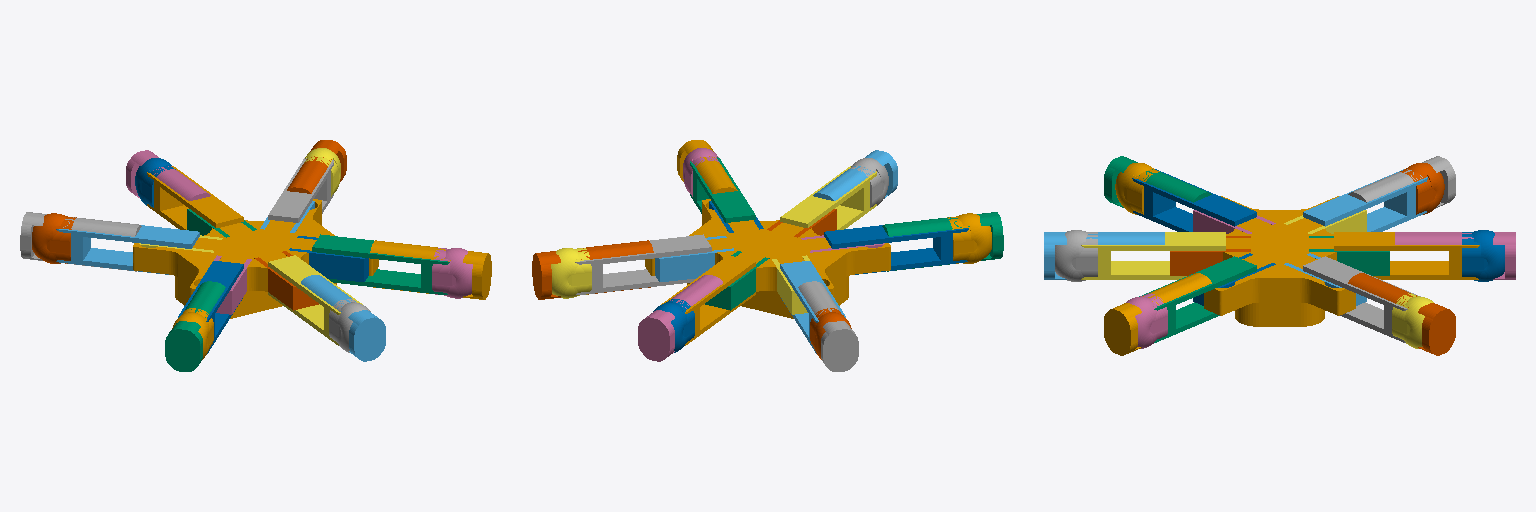
robot.urdf — guaraci:
<?xml version="1.0" encoding="utf-8"?>

<robot name="guaraci">

  <link name="base">
    <visual>
      <!-- <origin rpy="0 0 1.5707" xyz="0 0 0" /> -->
      <origin rpy="1.5707 0 1.5707" xyz="0 0 0" />
      <geometry>
        <mesh filename="../meshes/body100.dae" scale="0.002 0.002 0.002"/>
      </geometry>
    </visual>
    <collision>
      <!-- <origin rpy="0 0 1.5707" xyz="0 0 0" /> -->
      <origin rpy="1.5707 0 1.5707" xyz="0 0 0" />
      <geometry>
        <mesh filename="../meshes/body100.dae" scale="0.002 0.002 0.002"/>
      </geometry>
    </collision>
    <inertial>
      <mass value="9.42278" />
      <origin rpy="0 0 0" xyz="3.073e-05 0.0 2.577e-05" />
      <inertia ixx="0.05235" ixy="0" ixz="0" iyy="0.08538" iyz="0" izx="0" izz="0.1338"/>
    </inertial>
  </link>

  <link name="coxa_r1">
    <inertial>
      <mass value="0.59759" />
      <origin rpy="0 0 0" xyz="0 0 -3.357e-05" />
      <inertia ixx="0.00055" ixy="0" ixz="0" iyy="0.00124" iyz="0" izx="0" izz="0.00155"/>
    </inertial>
    <collision>
      <origin rpy="0 0 3.14159" xyz="0 0 0" />
      <geometry>
        <mesh filename="../meshes/coxa.dae" scale="0.002 0.002 0.002"/>
      </geometry>
    </collision>
    <visual>
      <origin rpy="0 0 3.14159" xyz="0 0 0" />
      <geometry>
        <mesh filename="../meshes/coxa.dae" scale="0.002 0.002 0.002"/>
      </geometry>
    </visual>
  </link>

  <joint name="joint_coxa_r1" type="revolute">
    <parent link="base" />
    <child link="coxa_r1" />
    <origin rpy="3.14159 0 0.7854" xyz="0.17302 0.10517 0" />
    <axis xyz="0 0 1"/>
    <limit effort="25.0" lower="-3.14159" upper="3.14159" velocity="0.5"/>
  </joint>

  <link name="coxa_r2">
    <inertial>
      <mass value="0.59759" />
      <origin rpy="0 0 0" xyz="0 0 -3.357e-05" />
      <inertia ixx="0.00055" ixy="0" ixz="0" iyy="0.00124" iyz="0" izx="0" izz="0.00155"/>
    </inertial>
    <collision>
      <origin rpy="0 0 3.14159" xyz="0 0 0" />
      <geometry>
        <mesh filename="../meshes/coxa.dae" scale="0.002 0.002 0.002"/>
      </geometry>
    </collision>
    <visual>
      <origin rpy="0 0 3.14159" xyz="0 0 0" />
      <geometry>
        <mesh filename="../meshes/coxa.dae" scale="0.002 0.002 0.002"/>
      </geometry>
    </visual>
  </link>

  <joint name="joint_coxa_r2" type="revolute">
    <parent link="base" />
    <child link="coxa_r2" />
    <origin rpy="3.14159 0 1.5707" xyz="0 0.169 0" />
    <axis xyz="0 0 1"/>
    <limit effort="25.0" lower="-3.14159" upper="3.14159" velocity="0.5"/>
  </joint>

  <link name="coxa_r3">
    <inertial>
      <mass value="0.59759" />
      <origin rpy="0 0 0" xyz="0 0 -3.357e-05" />
      <inertia ixx="0.00055" ixy="0" ixz="0" iyy="0.00124" iyz="0" izx="0" izz="0.00155"/>
    </inertial>
    <collision>
      <origin rpy="0 0 3.14159" xyz="0 0 0" />
      <geometry>
        <mesh filename="../meshes/coxa.dae" scale="0.002 0.002 0.002"/>
      </geometry>
    </collision>
    <visual>
      <origin rpy="0 0 3.14159" xyz="0 0 0" />
      <geometry>
        <mesh filename="../meshes/coxa.dae" scale="0.002 0.002 0.002"/>
      </geometry>
    </visual>
  </link>

  <joint name="joint_coxa_r3" type="revolute">
    <parent link="base" />
    <child link="coxa_r3" />
    <origin rpy="3.14159 0 2.3561" xyz="-0.17302 0.10517 0" />
    <axis xyz="0 0 1"/>
    <limit effort="25.0" lower="-3.14159" upper="3.14159" velocity="0.5"/>
  </joint>

  <link name="coxa_l1">
    <inertial>
      <mass value="0.59759" />
      <origin rpy="0 0 0" xyz="0 0 -3.357e-05" />
      <inertia ixx="0.00055" ixy="0" ixz="0" iyy="0.00124" iyz="0" izx="0" izz="0.00155"/>
    </inertial>
    <collision>
      <origin rpy="0 0 3.14159" xyz="0 0 0" />
      <geometry>
        <mesh filename="../meshes/coxa.dae" scale="0.002 0.002 0.002"/>
      </geometry>
    </collision>
    <visual>
      <origin rpy="0 0 3.14159" xyz="0 0 0" />
      <geometry>
        <mesh filename="../meshes/coxa.dae" scale="0.002 0.002 0.002"/>
      </geometry>
    </visual>
  </link>

  <joint name="joint_coxa_l1" type="revolute">
    <parent link="base" />
    <child link="coxa_l1" />
    <origin rpy="3.14159 0 5.4977" xyz="0.17302 -0.10517 0" />
    <axis xyz="0 0 1"/>
    <limit effort="25.0" lower="-3.14159" upper="3.14159" velocity="0.5"/>
  </joint>

  <link name="coxa_l2">
    <inertial>
      <mass value="0.59759" />
      <origin rpy="0 0 0" xyz="0 0 -3.357e-05" />
      <inertia ixx="0.00055" ixy="0" ixz="0" iyy="0.00124" iyz="0" izx="0" izz="0.00155"/>
    </inertial>
    <collision>
      <origin rpy="0 0 3.14159" xyz="0 0 0" />
      <geometry>
        <mesh filename="../meshes/coxa.dae" scale="0.002 0.002 0.002"/>
      </geometry>
    </collision>
    <visual>
      <origin rpy="0 0 3.14159" xyz="0 0 0" />
      <geometry>
        <mesh filename="../meshes/coxa.dae" scale="0.002 0.002 0.002"/>
      </geometry>
    </visual>
  </link>

  <joint name="joint_coxa_l2" type="revolute">
    <parent link="base" />
    <child link="coxa_l2" />
    <origin rpy="3.14159 0 4.71229" xyz="0 -0.169 0" />
    <axis xyz="0 0 1"/>
    <limit effort="25.0" lower="-3.14159" upper="3.14159" velocity="0.5"/>
  </joint>

  <link name="coxa_l3">
    <inertial>
      <mass value="0.59759" />
      <origin rpy="0 0 0" xyz="0 0 -3.357e-05" />
      <inertia ixx="0.00055" ixy="0" ixz="0" iyy="0.00124" iyz="0" izx="0" izz="0.00155"/>
    </inertial>
    <collision>
      <origin rpy="0 0 3.14159" xyz="0 0 0" />
      <geometry>
        <mesh filename="../meshes/coxa.dae" scale="0.002 0.002 0.002"/>
      </geometry>
    </collision>
    <visual>
      <origin rpy="0 0 3.14159" xyz="0 0 0" />
      <geometry>
        <mesh filename="../meshes/coxa.dae" scale="0.002 0.002 0.002"/>
      </geometry>
    </visual>
  </link>

  <joint name="joint_coxa_l3" type="revolute">
    <parent link="base" />
    <child link="coxa_l3" />
    <origin rpy="3.14159 0 3.9269" xyz="-0.17302 -0.10517 0" />
    <axis xyz="0 0 1"/>
    <limit effort="25.0" lower="-3.14159" upper="3.14159" velocity="0.5"/>
  </joint>

  <link name="femur_r1">
    <inertial>
      <mass value="0.92606" />
      <origin rpy="0 0 0" xyz="0 0 0" />
      <inertia ixx="0.00098" ixy="0" ixz="0" iyy="0.00506" iyz="0" izx="0" izz="0.00473"/>
    </inertial>
    <collision>
      <origin rpy="1.5707 0 3.14159" xyz="0 0 0" />
      <geometry>
        <mesh filename="../meshes/femur220.dae" scale="0.002 0.002 0.002"/>
      </geometry>
    </collision>
    <visual>
      <origin rpy="1.5707 0 3.14159" xyz="0 0 0" />
      <geometry>
        <mesh filename="../meshes/femur220.dae" scale="0.002 0.002 0.002"/>
      </geometry>
    </visual>
  </link>

  <joint name="joint_femur_r1" type="revolute">
    <parent link="coxa_r1" />
    <child link="femur_r1" />
    <origin rpy="1.5707 0 0" xyz="0.09041 0 0" />
    <axis xyz="0 0 1"/>
    <limit effort="25.0" lower="-3.14159" upper="3.14159" velocity="0.5"/>
  </joint>

  <link name="femur_r2">
    <inertial>
      <mass value="0.92606" />
      <origin rpy="0 0 0" xyz="0 0 0" />
      <inertia ixx="0.00098" ixy="0" ixz="0" iyy="0.00506" iyz="0" izx="0" izz="0.00473"/>
    </inertial>
    <collision>
      <origin rpy="1.5707 0 3.14159" xyz="0 0 0" />
      <geometry>
        <mesh filename="../meshes/femur220.dae" scale="0.002 0.002 0.002"/>
      </geometry>
    </collision>
    <visual>
      <origin rpy="1.5707 0 3.14159" xyz="0 0 0" />
      <geometry>
        <mesh filename="../meshes/femur220.dae" scale="0.002 0.002 0.002"/>
      </geometry>
    </visual>
  </link>

  <joint name="joint_femur_r2" type="revolute">
    <parent link="coxa_r2" />
    <child link="femur_r2" />
    <origin rpy="1.5707 0 0" xyz="0.09041 0 0" />
    <axis xyz="0 0 1"/>
    <limit effort="25.0" lower="-3.14159" upper="3.14159" velocity="0.5"/>
  </joint>

  <link name="femur_r3">
    <inertial>
      <mass value="0.92606" />
      <origin rpy="0 0 0" xyz="0 0 0" />
      <inertia ixx="0.00098" ixy="0" ixz="0" iyy="0.00506" iyz="0" izx="0" izz="0.00473"/>
    </inertial>
    <collision>
      <origin rpy="1.5707 0 3.14159" xyz="0 0 0" />
      <geometry>
        <mesh filename="../meshes/femur220.dae" scale="0.002 0.002 0.002"/>
      </geometry>
    </collision>
    <visual>
      <origin rpy="1.5707 0 3.14159" xyz="0 0 0" />
      <geometry>
        <mesh filename="../meshes/femur220.dae" scale="0.002 0.002 0.002"/>
      </geometry>
    </visual>
  </link>

  <joint name="joint_femur_r3" type="revolute">
    <parent link="coxa_r3" />
    <child link="femur_r3" />
    <origin rpy="1.5707 0 0" xyz="0.09041 0 0" />
    <axis xyz="0 0 1"/>
    <limit effort="25.0" lower="-3.14159" upper="3.14159" velocity="0.5"/>
  </joint>

  <link name="femur_l1">
    <inertial>
      <mass value="0.92606" />
      <origin rpy="0 0 0" xyz="0 0 0" />
      <inertia ixx="0.00098" ixy="0" ixz="0" iyy="0.00506" iyz="0" izx="0" izz="0.00473"/>
    </inertial>
    <collision>
      <origin rpy="1.5707 0 3.14159" xyz="0 0 0" />
      <geometry>
        <mesh filename="../meshes/femur220.dae" scale="0.002 0.002 0.002"/>
      </geometry>
    </collision>
    <visual>
      <origin rpy="1.5707 0 3.14159" xyz="0 0 0" />
      <geometry>
        <mesh filename="../meshes/femur220.dae" scale="0.002 0.002 0.002"/>
      </geometry>
    </visual>
  </link>

  <joint name="joint_femur_l1" type="revolute">
    <parent link="coxa_l1" />
    <child link="femur_l1" />
    <origin rpy="1.5707 0 0" xyz="0.09041 0 0" />
    <axis xyz="0 0 1"/>
    <limit effort="25.0" lower="-3.14159" upper="3.14159" velocity="0.5"/>
  </joint>

  <link name="femur_l2">
    <inertial>
      <mass value="0.92606" />
      <origin rpy="0 0 0" xyz="0 0 0" />
      <inertia ixx="0.00098" ixy="0" ixz="0" iyy="0.00506" iyz="0" izx="0" izz="0.00473"/>
    </inertial>
    <collision>
      <origin rpy="1.5707 0 3.14159" xyz="0 0 0" />
      <geometry>
        <mesh filename="../meshes/femur220.dae" scale="0.002 0.002 0.002"/>
      </geometry>
    </collision>
    <visual>
      <origin rpy="1.5707 0 3.14159" xyz="0 0 0" />
      <geometry>
        <mesh filename="../meshes/femur220.dae" scale="0.002 0.002 0.002"/>
      </geometry>
    </visual>
  </link>

  <joint name="joint_femur_l2" type="revolute">
    <parent link="coxa_l2" />
    <child link="femur_l2" />
    <origin rpy="1.5707 0 0" xyz="0.09041 0 0" />
    <axis xyz="0 0 1"/>
    <limit effort="25.0" lower="-3.14159" upper="3.14159" velocity="0.5"/>
  </joint>

  <link name="femur_l3">
    <inertial>
      <mass value="0.92606" />
      <origin rpy="0 0 0" xyz="0 0 0" />
      <inertia ixx="0.00098" ixy="0" ixz="0" iyy="0.00506" iyz="0" izx="0" izz="0.00473"/>
    </inertial>
    <collision>
      <origin rpy="1.5707 0 3.14159" xyz="0 0 0" />
      <geometry>
        <mesh filename="../meshes/femur220.dae" scale="0.002 0.002 0.002"/>
      </geometry>
    </collision>
    <visual>
      <origin rpy="1.5707 0 3.14159" xyz="0 0 0" />
      <geometry>
        <mesh filename="../meshes/femur220.dae" scale="0.002 0.002 0.002"/>
      </geometry>
    </visual>
  </link>

  <joint name="joint_femur_l3" type="revolute">
    <parent link="coxa_l3" />
    <child link="femur_l3" />
    <origin rpy="1.5707 0 0" xyz="0.09041 0 0" />
    <axis xyz="0 0 1"/>
    <limit effort="25.0" lower="-3.14159" upper="3.14159" velocity="0.5"/>
  </joint>

  <link name="tibia_r1">
    <inertial>
      <mass value="0.71403" />
      <origin rpy="0 0 0" xyz="0 0 0" />
      <inertia ixx="0.00097" ixy="0" ixz="0" iyy="0.00449" iyz="0" izx="0" izz="0.00383"/>
    </inertial>
    <collision>
      <origin rpy="1.5707 3.14159 0" xyz="0 0 0" />
      <geometry>
        <mesh filename="../meshes/tibia_3.dae" scale="0.002 0.002 0.002"/>
      </geometry>
    </collision>
    <visual>
      <origin rpy="1.5707 3.14159 0" xyz="0 0 0" />
      <geometry>
        <mesh filename="../meshes/tibia_3.dae" scale="0.002 0.002 0.002"/>
      </geometry>
    </visual>
  </link>

  <joint name="joint_tibia_r1" type="revolute">
    <parent link="femur_r1" />
    <child link="tibia_r1" />
    <origin rpy="0 0 0" xyz="0.220 0 0" />
    <axis xyz="0 0 1"/>
    <limit effort="25.0" lower="-3.14159" upper="3.14159" velocity="0.5"/>
  </joint>

  <link name="tibia_r2">
    <inertial>
      <mass value="0.71403" />
      <origin rpy="0 0 0" xyz="0 0 0" />
      <inertia ixx="0.00097" ixy="0" ixz="0" iyy="0.00449" iyz="0" izx="0" izz="0.00383"/>
    </inertial>
    <collision>
      <origin rpy="1.5707 3.14159 0" xyz="0 0 0" />
      <geometry>
        <mesh filename="../meshes/tibia_3.dae" scale="0.002 0.002 0.002"/>
      </geometry>
    </collision>
    <visual>
      <origin rpy="1.5707 3.14159 0" xyz="0 0 0" />
      <geometry>
        <mesh filename="../meshes/tibia_3.dae" scale="0.002 0.002 0.002"/>
      </geometry>
    </visual>
  </link>

  <joint name="joint_tibia_r2" type="revolute">
    <parent link="femur_r2" />
    <child link="tibia_r2" />
    <origin rpy="0 0 0" xyz="0.220 0 0" />
    <axis xyz="0 0 1"/>
    <limit effort="25.0" lower="-3.14159" upper="3.14159" velocity="0.5"/>
  </joint>

  <link name="tibia_r3">
    <inertial>
      <mass value="0.71403" />
      <origin rpy="0 0 0" xyz="0 0 0" />
      <inertia ixx="0.00097" ixy="0" ixz="0" iyy="0.00449" iyz="0" izx="0" izz="0.00383"/>
    </inertial>
    <collision>
      <origin rpy="1.5707 3.14159 0" xyz="0 0 0" />
      <geometry>
        <mesh filename="../meshes/tibia_3.dae" scale="0.002 0.002 0.002"/>
      </geometry>
    </collision>
    <visual>
      <origin rpy="1.5707 3.14159 0" xyz="0 0 0" />
      <geometry>
        <mesh filename="../meshes/tibia_3.dae" scale="0.002 0.002 0.002"/>
      </geometry>
    </visual>
  </link>

  <joint name="joint_tibia_r3" type="revolute">
    <parent link="femur_r3" />
    <child link="tibia_r3" />
    <origin rpy="0 0 0" xyz="0.220 0 0" />
    <axis xyz="0 0 1"/>
    <limit effort="25.0" lower="-3.14159" upper="3.14159" velocity="0.5"/>
  </joint>

  <link name="tibia_l1">
    <inertial>
      <mass value="0.71403" />
      <origin rpy="0 0 0" xyz="0 0 0" />
      <inertia ixx="0.00097" ixy="0" ixz="0" iyy="0.00449" iyz="0" izx="0" izz="0.00383"/>
    </inertial>
    <collision>
      <origin rpy="1.5707 3.14159 0" xyz="0 0 0" />
      <geometry>
        <mesh filename="../meshes/tibia_3.dae" scale="0.002 0.002 0.002"/>
      </geometry>
    </collision>
    <visual>
      <origin rpy="1.5707 3.14159 0" xyz="0 0 0" />
      <geometry>
        <mesh filename="../meshes/tibia_3.dae" scale="0.002 0.002 0.002"/>
      </geometry>
    </visual>
  </link>

  <joint name="joint_tibia_l1" type="revolute">
    <parent link="femur_l1" />
    <child link="tibia_l1" />
    <origin rpy="0 0 0" xyz="0.220 0 0" />
    <axis xyz="0 0 1"/>
    <limit effort="25.0" lower="-3.14159" upper="3.14159" velocity="0.5"/>
  </joint>

  <link name="tibia_l2">
    <inertial>
      <mass value="0.71403" />
      <origin rpy="0 0 0" xyz="0 0 0" />
      <inertia ixx="0.00097" ixy="0" ixz="0" iyy="0.00449" iyz="0" izx="0" izz="0.00383"/>
    </inertial>
    <collision>
      <origin rpy="1.5707 3.14159 0" xyz="0 0 0" />
      <geometry>
        <mesh filename="../meshes/tibia_3.dae" scale="0.002 0.002 0.002"/>
      </geometry>
    </collision>
    <visual>
      <origin rpy="1.5707 3.14159 0" xyz="0 0 0" />
      <geometry>
        <mesh filename="../meshes/tibia_3.dae" scale="0.002 0.002 0.002"/>
      </geometry>
    </visual>
  </link>

  <joint name="joint_tibia_l2" type="revolute">
    <parent link="femur_l2" />
    <child link="tibia_l2" />
    <origin rpy="0 0 0" xyz="0.220 0 0" />
    <axis xyz="0 0 1"/>
    <limit effort="25.0" lower="-3.14159" upper="3.14159" velocity="0.5"/>
  </joint>

  <link name="tibia_l3">
    <inertial>
      <mass value="0.71403" />
      <origin rpy="0 0 0" xyz="0 0 0" />
      <inertia ixx="0.00097" ixy="0" ixz="0" iyy="0.00449" iyz="0" izx="0" izz="0.00383"/>
    </inertial>
    <collision>
      <origin rpy="1.5707 3.14159 0" xyz="0 0 0" />
      <geometry>
        <mesh filename="../meshes/tibia_3.dae" scale="0.002 0.002 0.002"/>
      </geometry>
    </collision>
    <visual>
      <origin rpy="1.5707 3.14159 0" xyz="0 0 0" />
      <geometry>
        <mesh filename="../meshes/tibia_3.dae" scale="0.002 0.002 0.002"/>
      </geometry>
    </visual>
  </link>

  <joint name="joint_tibia_l3" type="revolute">
    <parent link="femur_l3" />
    <child link="tibia_l3" />
    <origin rpy="0 0 0" xyz="0.220 0 0" />
    <axis xyz="0 0 1"/>
    <limit effort="25.0" lower="-3.14159" upper="3.14159" velocity="0.5"/>
  </joint>

  <link name="foot_r1">
    <inertial>
      <mass value="1.15784" />
      <origin rpy="0 0 0" xyz="0 0 0" />
      <inertia ixx="0.001" ixy="0" ixz="0" iyy="0.00124" iyz="0" izx="0" izz="0.00096"/>
    </inertial>
    <collision>
      <origin rpy="0 3.14159 0" xyz="0 0 0" />
      <geometry>
        <mesh filename="../meshes/foot.dae" scale="0.002 0.002 0.002"/>
      </geometry>
    </collision>
    <visual>
      <origin rpy="0 3.14159 0" xyz="0 0 0" />
      <geometry>
        <mesh filename="../meshes/foot.dae" scale="0.002 0.002 0.002"/>
      </geometry>
    </visual>
  </link>

  <joint name="joint_foot_r1" type="fixed">
    <parent link="tibia_r1" />
    <child link="foot_r1" />
    <origin rpy="1.5707 0 0" xyz="0.19859 0 0" />
      <!-- <axis xyz="0 0 1"/>
      <limit effort="25.0" lower="-3.14159" upper="3.14159" velocity="0.5"/> -->
    </joint>

    <link name="foot_r2">
      <inertial>
        <mass value="1.15784" />
        <origin rpy="0 0 0" xyz="0 0 0" />
        <inertia ixx="0.001" ixy="0" ixz="0" iyy="0.00124" iyz="0" izx="0" izz="0.00096"/>
      </inertial>
      <collision>
        <origin rpy="0 3.14159 0" xyz="0 0 0" />
        <geometry>
          <mesh filename="../meshes/foot.dae" scale="0.002 0.002 0.002"/>
        </geometry>
      </collision>
      <visual>
        <origin rpy="0 3.14159 0" xyz="0 0 0" />
        <geometry>
          <mesh filename="../meshes/foot.dae" scale="0.002 0.002 0.002"/>
        </geometry>
      </visual>
    </link>

    <joint name="joint_foot_r2" type="fixed">
      <parent link="tibia_r2" />
      <child link="foot_r2" />
      <origin rpy="1.5707 0 0" xyz="0.19859 0 0" />
        <!-- <axis xyz="0 0 1"/>
        <limit effort="25.0" lower="-3.14159" upper="3.14159" velocity="0.5"/> -->
      </joint>

      <link name="foot_r3">
        <inertial>
          <mass value="1.15784" />
          <origin rpy="0 0 0" xyz="0 0 0" />
          <inertia ixx="0.001" ixy="0" ixz="0" iyy="0.00124" iyz="0" izx="0" izz="0.00096"/>
        </inertial>
        <collision>
          <origin rpy="0 3.14159 0" xyz="0 0 0" />
          <geometry>
            <mesh filename="../meshes/foot.dae" scale="0.002 0.002 0.002"/>
          </geometry>
        </collision>
        <visual>
          <origin rpy="0 3.14159 0" xyz="0 0 0" />
          <geometry>
            <mesh filename="../meshes/foot.dae" scale="0.002 0.002 0.002"/>
          </geometry>
        </visual>
      </link>

      <joint name="joint_foot_r3" type="fixed">
        <parent link="tibia_r3" />
        <child link="foot_r3" />
        <origin rpy="1.5707 0 0" xyz="0.19859 0 0" />
          <!-- <axis xyz="0 0 1"/>
          <limit effort="25.0" lower="-3.14159" upper="3.14159" velocity="0.5"/> -->
        </joint>

        <link name="foot_l1">
          <inertial>
            <mass value="1.15784" />
            <origin rpy="0 0 0" xyz="0 0 0" />
            <inertia ixx="0.001" ixy="0" ixz="0" iyy="0.00124" iyz="0" izx="0" izz="0.00096"/>
          </inertial>
          <collision>
            <origin rpy="0 3.14159 0" xyz="0 0 0" />
            <geometry>
              <mesh filename="../meshes/foot.dae" scale="0.002 0.002 0.002"/>
            </geometry>
          </collision>
          <visual>
            <origin rpy="0 3.14159 0" xyz="0 0 0" />
            <geometry>
              <mesh filename="../meshes/foot.dae" scale="0.002 0.002 0.002"/>
            </geometry>
          </visual>
        </link>

        <joint name="joint_foot_l1" type="fixed">
          <parent link="tibia_l1" />
          <child link="foot_l1" />
          <origin rpy="1.5707 0 0" xyz="0.19859 0 0" />
            <!-- <axis xyz="0 0 1"/>
            <limit effort="25.0" lower="-3.14159" upper="3.14159" velocity="0.5"/> -->
          </joint>

          <link name="foot_l2">
            <inertial>
              <mass value="1.15784" />
              <origin rpy="0 0 0" xyz="0 0 0" />
              <inertia ixx="0.001" ixy="0" ixz="0" iyy="0.00124" iyz="0" izx="0" izz="0.00096"/>
            </inertial>
            <collision>
              <origin rpy="0 3.14159 0" xyz="0 0 0" />
              <geometry>
                <mesh filename="../meshes/foot.dae" scale="0.002 0.002 0.002"/>
              </geometry>
            </collision>
            <visual>
              <origin rpy="0 3.14159 0" xyz="0 0 0" />
              <geometry>
                <mesh filename="../meshes/foot.dae" scale="0.002 0.002 0.002"/>
              </geometry>
            </visual>
          </link>

          <joint name="joint_foot_l2" type="fixed">
            <parent link="tibia_l2" />
            <child link="foot_l2" />
            <origin rpy="1.5707 0 0" xyz="0.19859 0 0" />
              <!-- <axis xyz="0 0 1"/>
              <limit effort="25.0" lower="-3.14159" upper="3.14159" velocity="0.5"/> -->
            </joint>

            <link name="foot_l3">
              <inertial>
                <mass value="1.15784" />
                <origin rpy="0 0 0" xyz="0 0 0" />
                <inertia ixx="0.001" ixy="0" ixz="0" iyy="0.00124" iyz="0" izx="0" izz="0.00096"/>
              </inertial>
              <collision>
                <origin rpy="0 3.14159 0" xyz="0 0 0" />
                <geometry>
                  <mesh filename="../meshes/foot.dae" scale="0.002 0.002 0.002"/>
                </geometry>
              </collision>
              <visual>
                <origin rpy="0 3.14159 0" xyz="0 0 0" />
                <geometry>
                  <mesh filename="../meshes/foot.dae" scale="0.002 0.002 0.002"/>
                </geometry>
              </visual>
            </link>

            <joint name="joint_foot_l3" type="fixed">
              <parent link="tibia_l3" />
              <child link="foot_l3" />
              <origin rpy="1.5707 0 0" xyz="0.19859 0 0" />
                <!-- <axis xyz="0 0 1"/>
                <limit effort="25.0" lower="-3.14159" upper="3.14159" velocity="0.5"/> -->
              </joint>

            </robot>

--- What the picture shows (computed from the rendered views, not written in the file) ---
Views: 3 orthographic renders of the robot side by side, from view 1: azimuth 30°, elevation 25°; view 2: azimuth 150°, elevation 25°; view 3: azimuth 270°, elevation 25°.
Model guaraci with 25 links and 24 joints (18 revolute, 6 fixed), rooted at base, posed every joint at zero.
Links seen in each view (by area): view 1: base, femur_r3, femur_l1, tibia_l3, femur_r2, tibia_l2, femur_l2, tibia_l1, foot_l1, foot_r3, tibia_r3, femur_r1 (+10 smaller); view 2: base, femur_l3, femur_r1, tibia_r3, femur_l2, tibia_r2, femur_r2, tibia_r1, foot_r1, tibia_l3, foot_l3, femur_l1 (+10 smaller); view 3: base, femur_r2, femur_l2, femur_r3, femur_l3, femur_r1, femur_l1, tibia_r1, tibia_l1, foot_l2, foot_r2, tibia_l2 (+11 smaller).
Link boxes in pixels (box(x1,y1,x2,y2)): base: box(133, 199, 378, 318); femur_r3: box(56, 225, 199, 274); femur_l1: box(312, 234, 449, 294); tibia_l3: box(165, 281, 225, 371); femur_r2: box(147, 166, 243, 229); tibia_l2: box(301, 275, 385, 361); femur_l2: box(268, 255, 362, 345); tibia_l1: box(370, 240, 491, 299); foot_l1: box(432, 248, 472, 298); foot_r3: box(32, 213, 76, 263); tibia_r3: box(20, 212, 141, 271); femur_r1: box(268, 158, 333, 222); base: box(645, 199, 890, 318); femur_l3: box(824, 225, 968, 274); femur_r1: box(575, 234, 711, 294); tibia_r3: box(798, 281, 858, 371); femur_l2: box(780, 166, 876, 229); tibia_r2: box(638, 275, 722, 361); femur_r2: box(661, 255, 755, 345); tibia_r1: box(532, 240, 653, 299); foot_r1: box(551, 248, 591, 298); tibia_l3: box(882, 212, 1003, 271); foot_l3: box(947, 213, 991, 263); femur_l1: box(690, 157, 755, 222); base: box(1204, 196, 1355, 326); femur_r2: box(1334, 232, 1479, 279); femur_l2: box(1081, 232, 1225, 279); femur_r3: box(1303, 169, 1427, 231); femur_l3: box(1132, 169, 1256, 231); femur_r1: box(1303, 256, 1420, 342); femur_l1: box(1139, 256, 1256, 342); tibia_r1: box(1348, 273, 1455, 355); tibia_l1: box(1104, 273, 1211, 355); foot_l2: box(1055, 230, 1097, 281); foot_r2: box(1462, 230, 1504, 281); tibia_l2: box(1044, 232, 1164, 279).
Size in the robot's own frame: 1.45 by 1.75 by 0.25 metres.
Meshes: 5 distinct files referenced, 25 mesh visuals loaded (5 Collada DAE).
